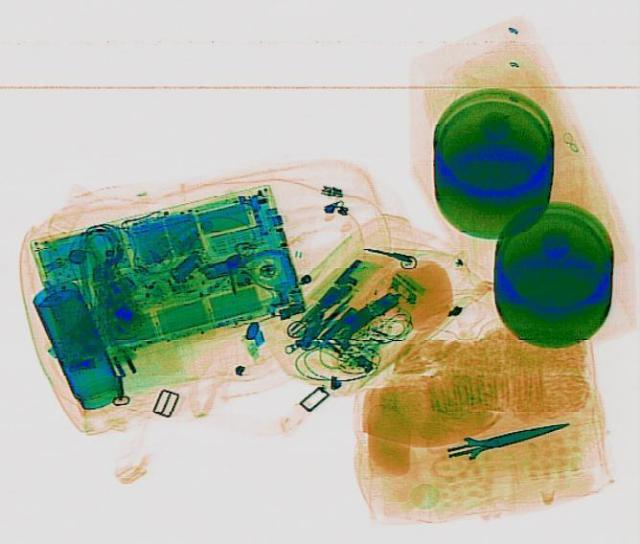Knife: (441, 409, 571, 461)
